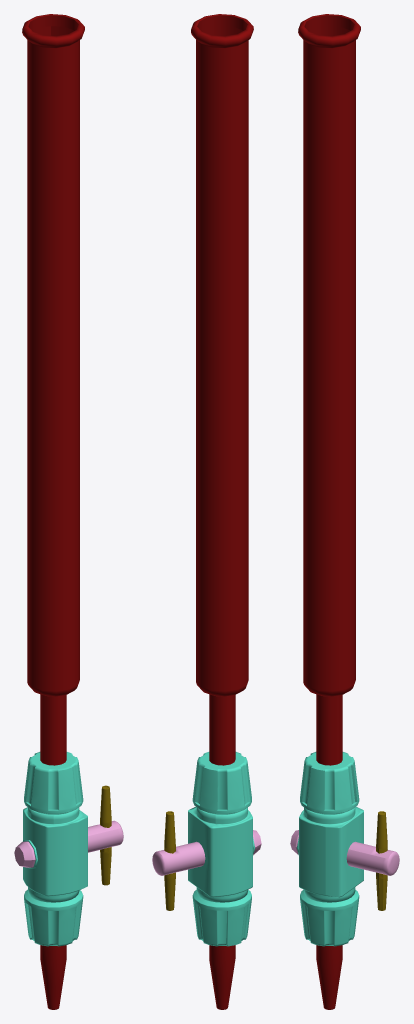
File: Burette.obj
3 renders of one model, left to right at view 1: azimuth 30°, elevation 25°; view 2: azimuth 210°, elevation 25°; view 3: azimuth 330°, elevation 25°, orthographic.
Visible parts, largest first — view 1: burette_pipe, cabinet, rotator_rode, rotator_part1; view 2: burette_pipe, cabinet, rotator_rode, rotator_part1; view 3: burette_pipe, cabinet, rotator_rode, rotator_part1.
Boxes of the visible parts, x1,y1,x2,y2 form: burette_pipe: (22,14,84,1009); cabinet: (22,752,87,946); rotator_rode: (14,820,123,867); rotator_part1: (100,785,111,885); burette_pipe: (191,14,253,1009); cabinet: (188,752,254,946); rotator_rode: (152,830,261,875); rotator_part1: (164,811,175,910); burette_pipe: (298,14,360,1009); cabinet: (297,752,363,946); rotator_rode: (290,830,399,875); rotator_part1: (376,811,387,910).
Bounding box in the file's own units: 13.84 × 131 × 7.58.
